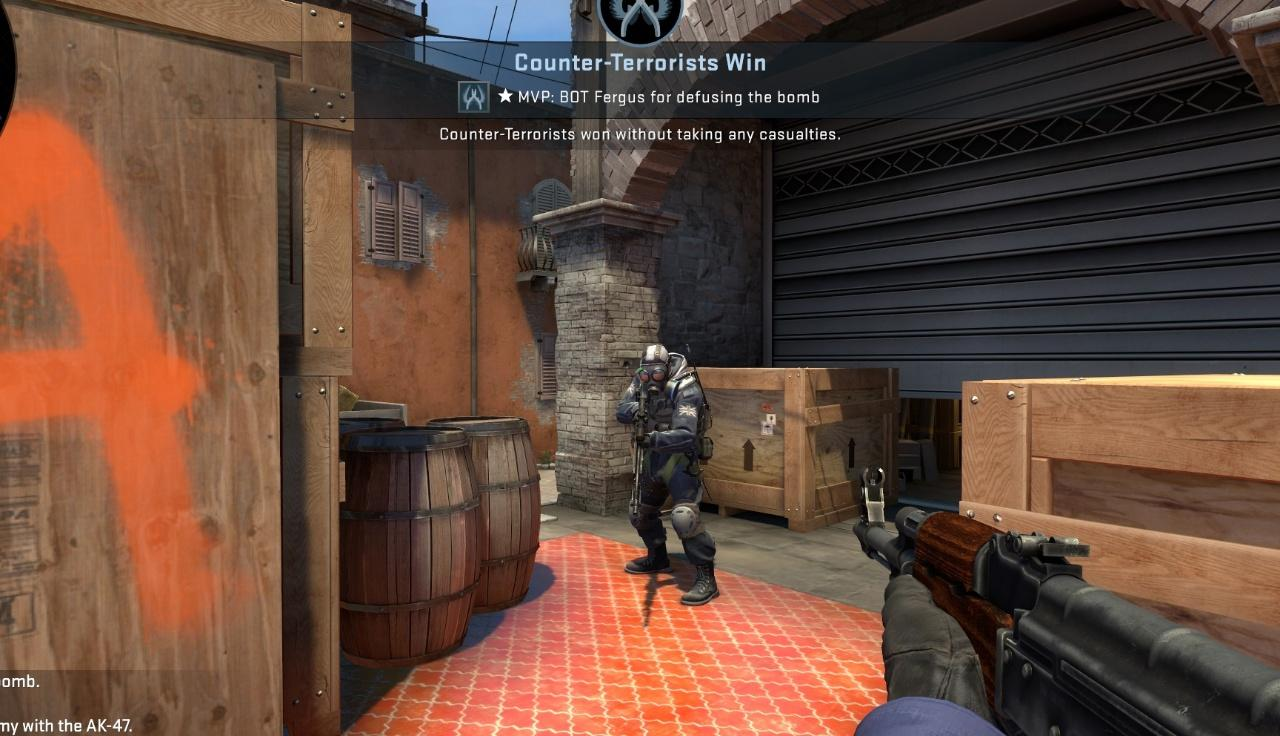ct: (612, 342, 715, 603)
cthead: (637, 343, 671, 389)
rifle: (848, 484, 1280, 733)
